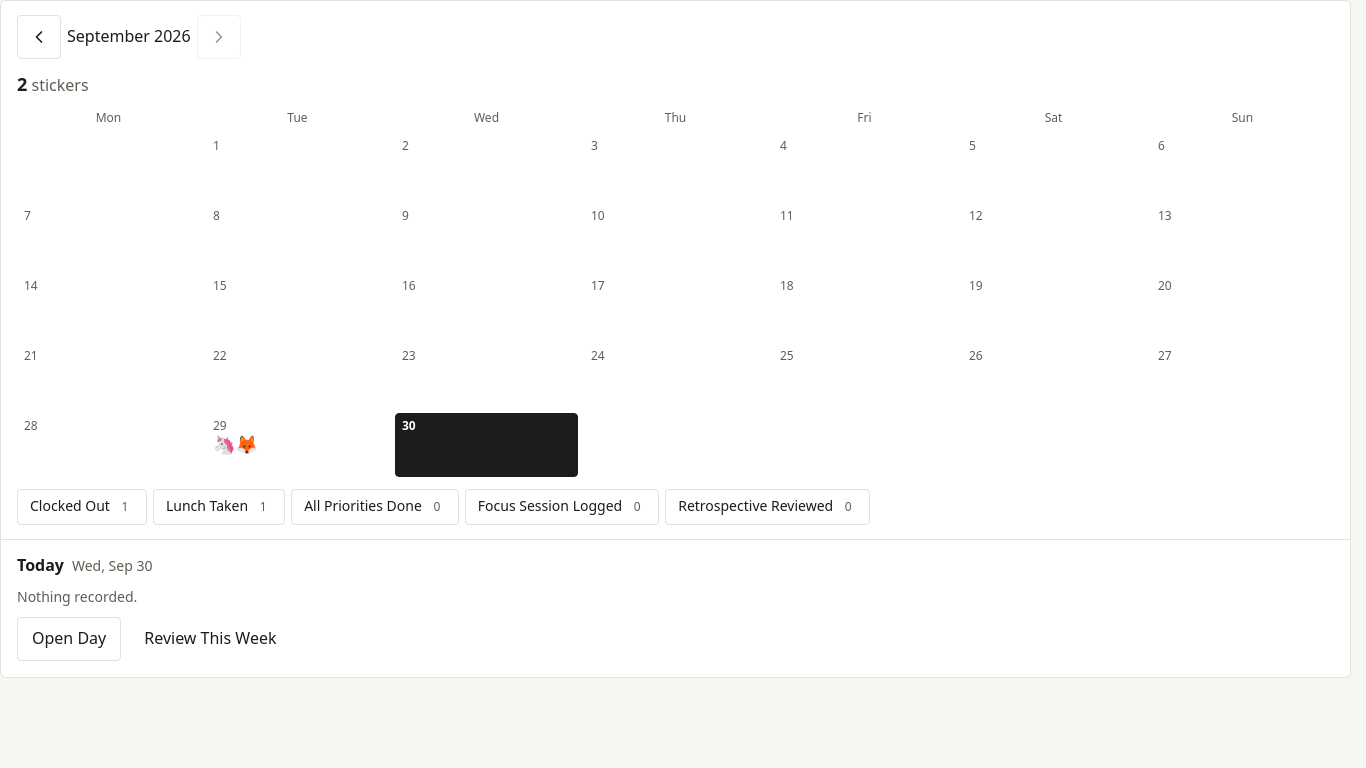
Calendar › drops a sticker filter whose reason leaves the legend
Click the button "Clocked Out 1" at [82, 507], box [17,489,147,525]
Wait 60000 ms
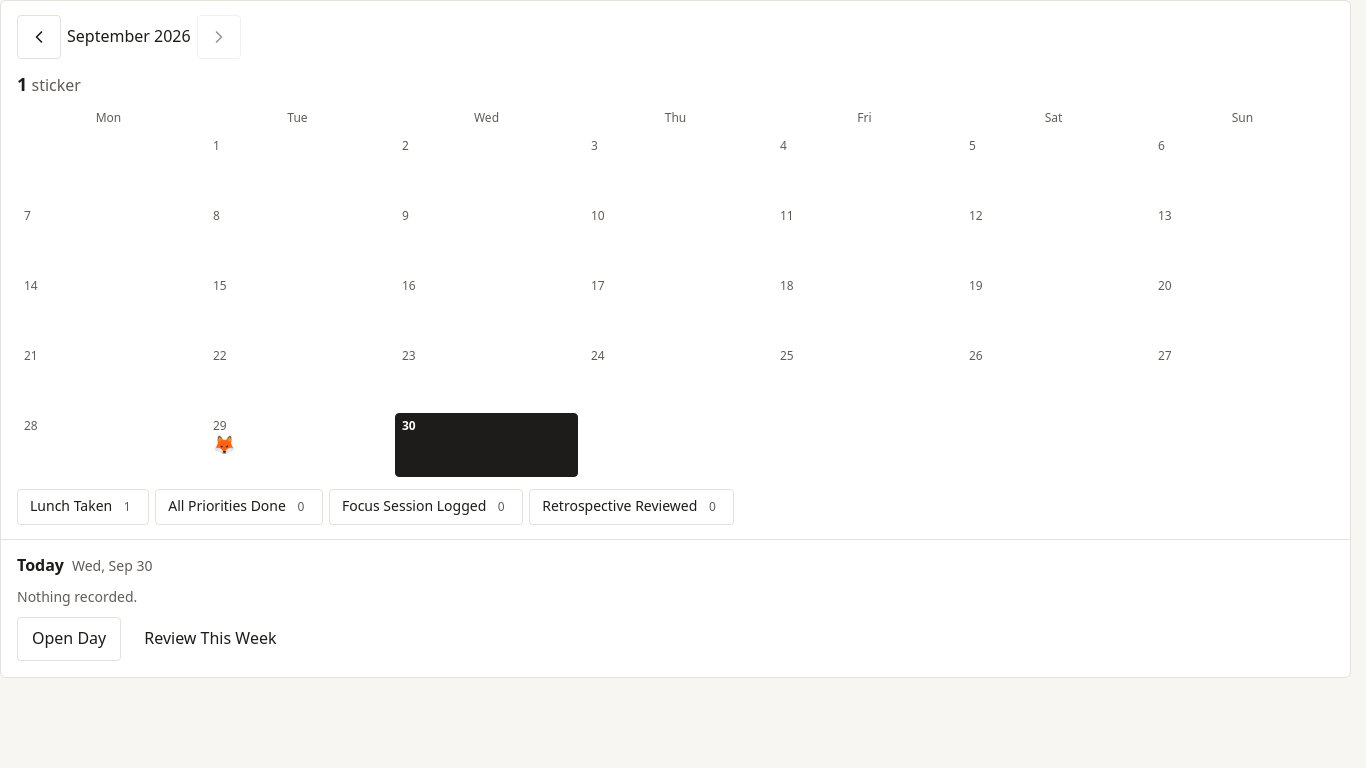
Now the button "Clocked Out" is gone
